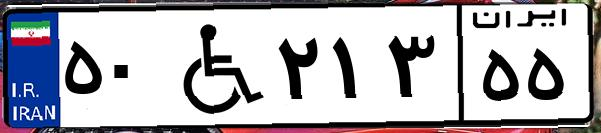0: (110, 28, 158, 98)
1: (330, 28, 385, 110)
2: (270, 28, 330, 110)
3: (385, 28, 445, 110)
5: (57, 26, 110, 100), (475, 38, 525, 113), (525, 38, 570, 115)
ژ (معلولین و جانبازان): (158, 12, 270, 120)
